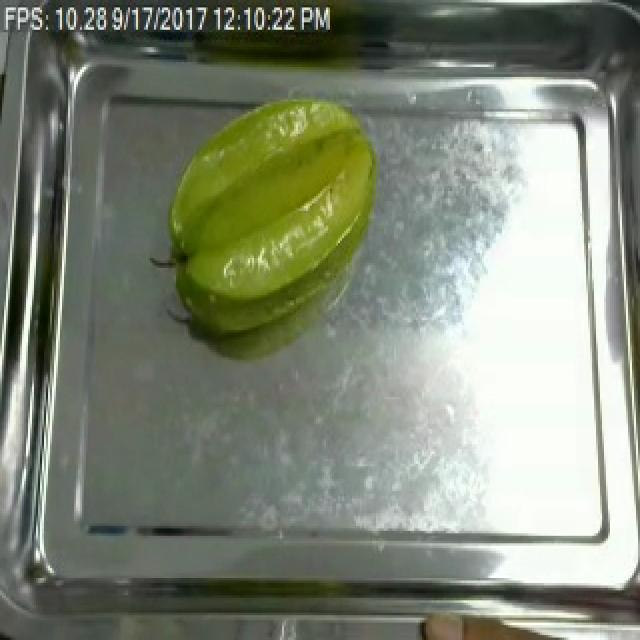fruit: (154, 89, 386, 313)
